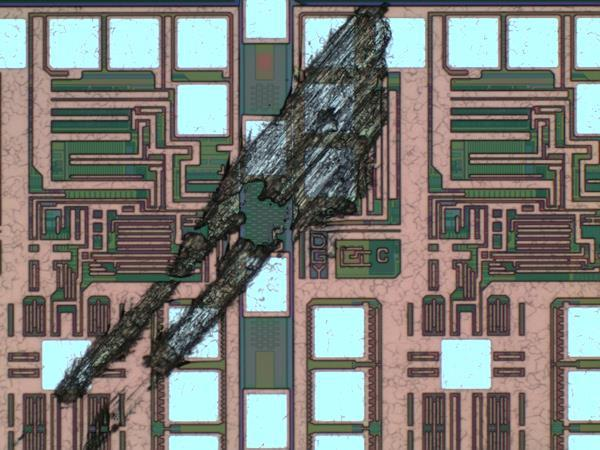SCRATCH: (6, 2, 408, 450)
